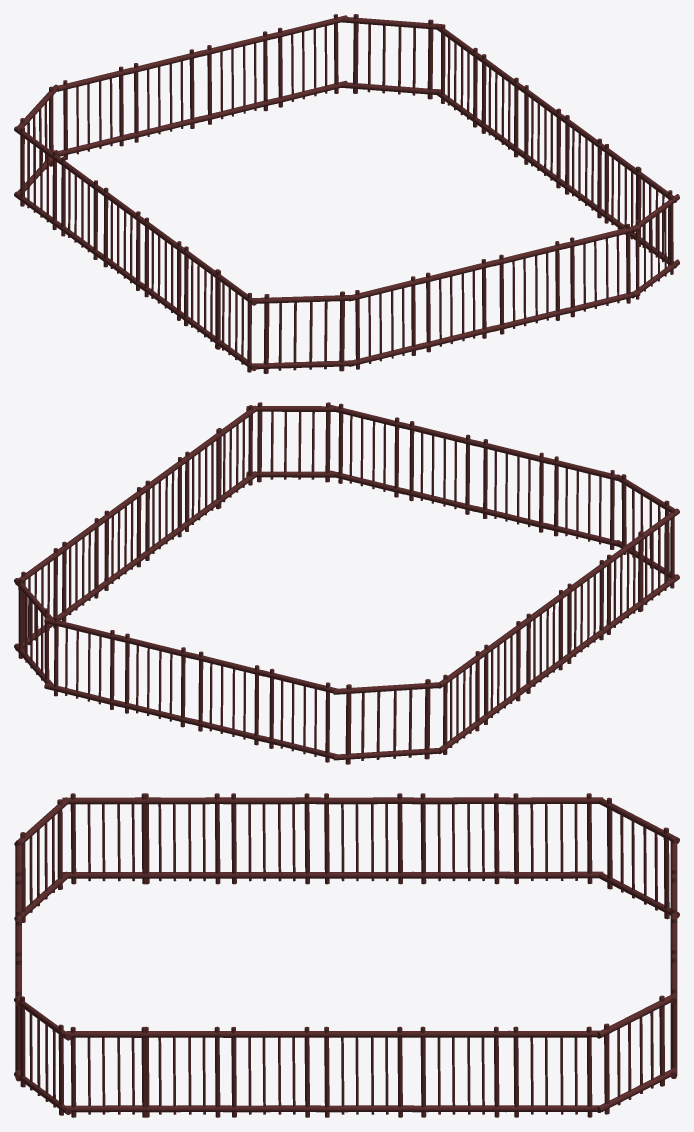
Rendered from Jaula.obj.
3 views of the same model, one above another, from view 1: azimuth 30°, elevation 25°; view 2: azimuth 150°, elevation 25°; view 3: azimuth 270°, elevation 25° (orthographic). The views are drawn at different scales.
Parts seen in each view (by area): view 1: Reja:pasted__pasted__pCylinder2; view 2: Reja:pasted__pasted__pCylinder2; view 3: Reja:pasted__pasted__pCylinder2.
Boxes of the visible parts, box(x1,y1,x2,y2) form: Reja:pasted__pasted__pCylinder2: box(14, 14, 679, 373); Reja:pasted__pasted__pCylinder2: box(14, 402, 679, 764); Reja:pasted__pasted__pCylinder2: box(14, 793, 679, 1117).
Bounding box in the file's own units: 9.51 × 1.66 × 11.21.
24 materials, 24 textured.
